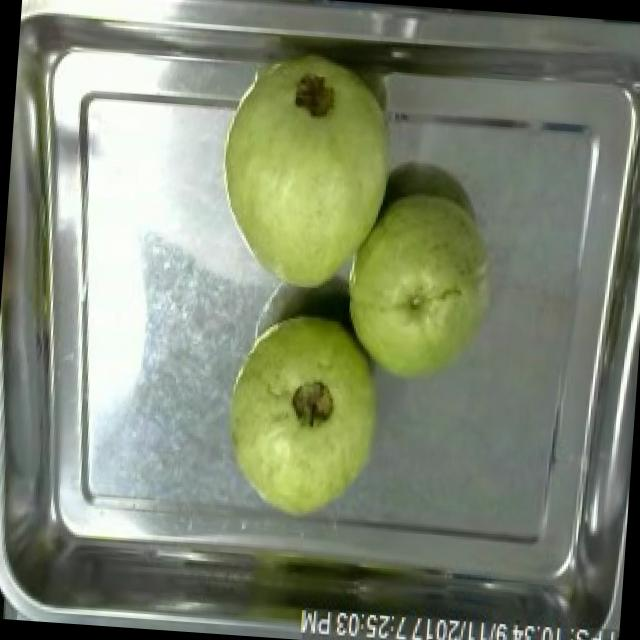Fruit: (202, 37, 417, 300), (210, 301, 395, 530), (332, 180, 512, 392)
